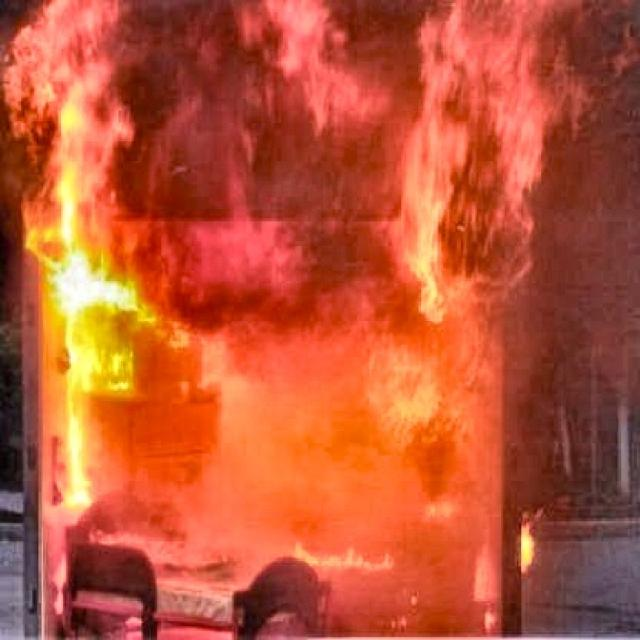fire: (0, 2, 618, 489)
